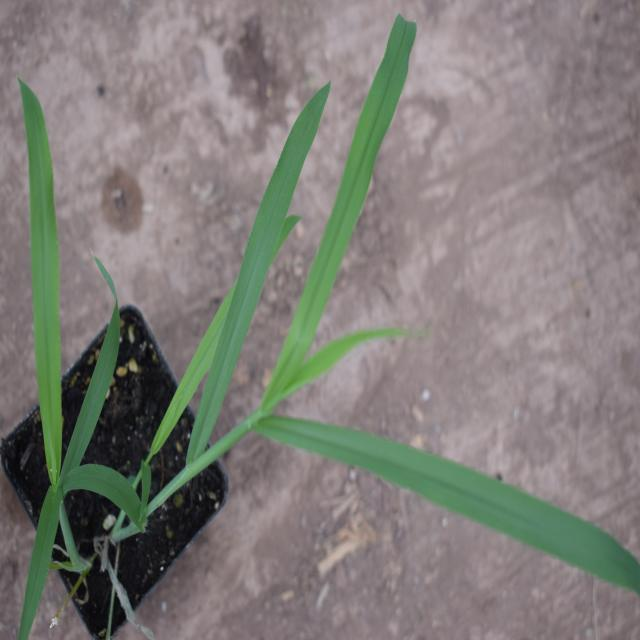crabgrass: (207, 99, 640, 634), (0, 57, 166, 594)
